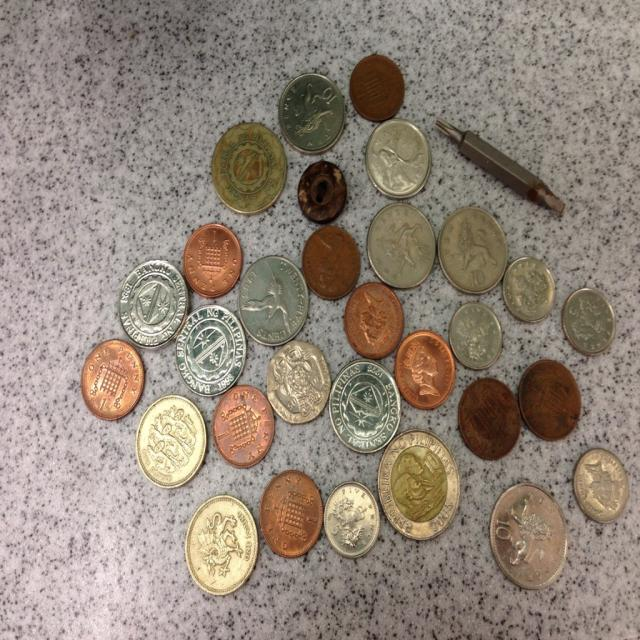Coin: (487, 478, 570, 589), (377, 430, 458, 539), (205, 119, 289, 221), (233, 257, 312, 350), (185, 494, 258, 591), (361, 201, 435, 291), (134, 396, 206, 486), (272, 69, 351, 151), (330, 362, 401, 453), (435, 203, 506, 294), (256, 466, 324, 560), (176, 307, 248, 395), (514, 358, 584, 443), (455, 370, 521, 460), (210, 383, 280, 467), (364, 117, 432, 201), (76, 338, 145, 420), (117, 267, 188, 345), (342, 280, 404, 361), (264, 340, 329, 416), (395, 325, 454, 408), (298, 225, 361, 301), (572, 449, 630, 528), (448, 300, 505, 373), (348, 54, 408, 119), (324, 485, 379, 554), (503, 252, 555, 321), (564, 283, 616, 351), (291, 161, 347, 224)
